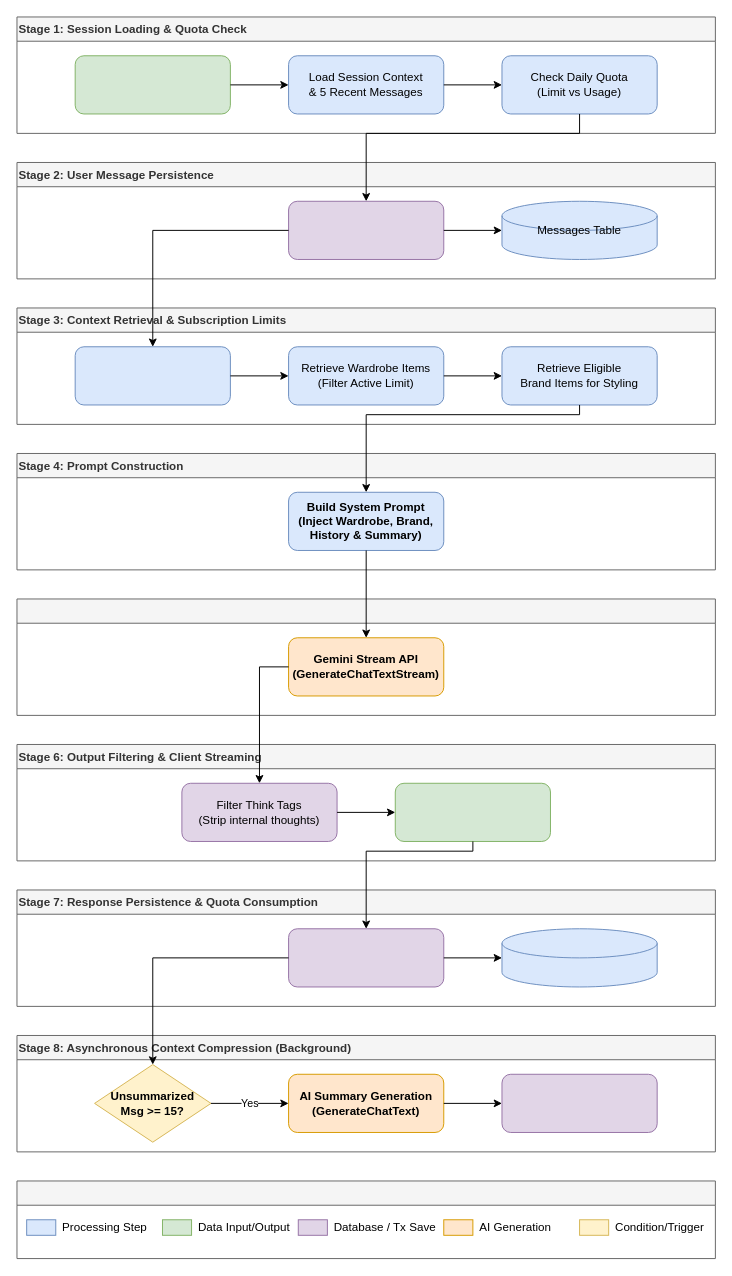
Some shapes in this 732 by 1276 pixel diagram are drawn without their labels. The shapes that lost their labels are listed below. From the top down, each one's box as (x1, y1, x2, y2) in pixels, then its label:
(74, 55, 230, 114): User Message (Stream Start Request)
(288, 200, 444, 259): Tx: Save User Message & Update Session Time
(74, 346, 230, 405): Fetch Subscription Limits (MaxWardrobeItems)
(16, 598, 715, 715): Stage 5: Stream Generation
(394, 782, 550, 841): Stream Chunks to Client
(288, 928, 444, 987): Tx: Save AI Reply & Deduct Daily Quota
(501, 928, 657, 987): Update Ledgers / Messages
(501, 1073, 657, 1132): Tx: Save Summary & Mark Messages Summarized
(16, 1180, 715, 1259): Legend
